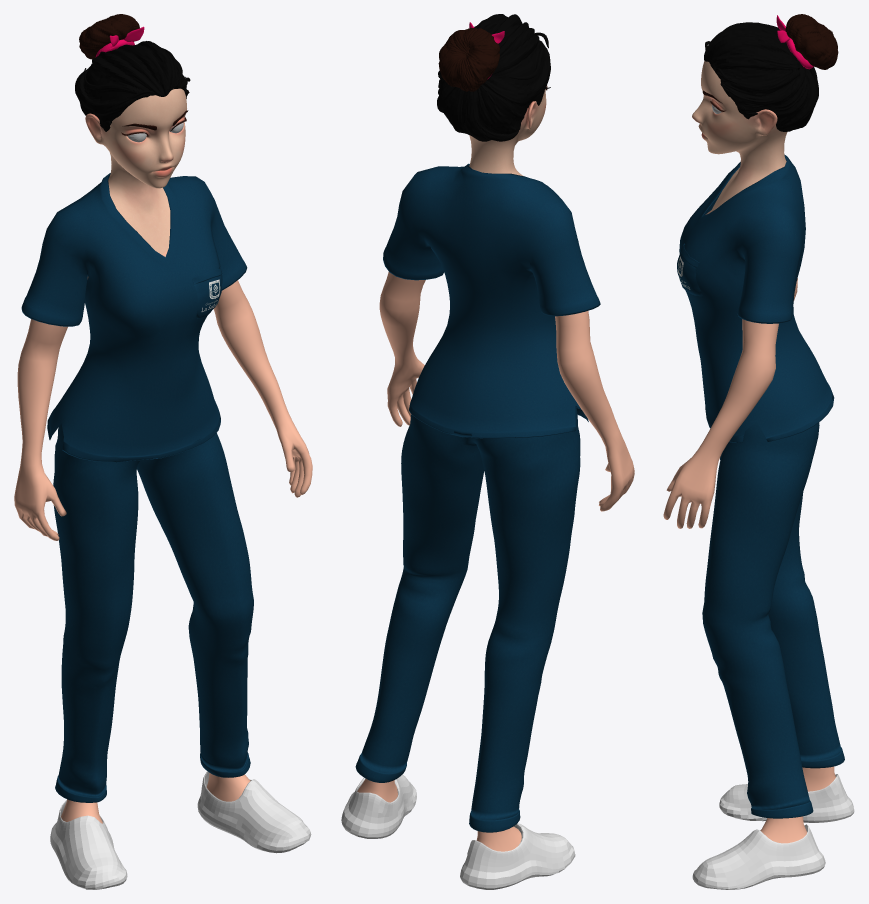
File: Pose_Doctora.fbx
3 renders of one model, left to right at view 1: azimuth 30°, elevation 25°; view 2: azimuth 150°, elevation 25°; view 3: azimuth 270°, elevation 25°, orthographic. The views are drawn at different scales.
Parts seen in each view (by area): view 1: pantalon_low, camisa_low, body_low_copy1, face_low, zapatos_low, base_head_low-001, bollo_low, Bolsillo Camisa.001; view 2: pantalon_low, camisa_low, body_low_copy1, base_head_low-001, zapatos_low, bollo_low, face_low; view 3: pantalon_low, camisa_low, body_low_copy1, base_head_low-001, zapatos_low, face_low, bollo_low, Bolsillo Camisa.001, moña.
Boxes of the visible parts, x1,y1,x2,y2 form: pantalon_low: (53,423,253,802); camisa_low: (21,173,247,462); body_low_copy1: (14,250,312,823); face_low: (85,88,186,254); zapatos_low: (50,771,311,889); base_head_low-001: (75,41,190,131); bollo_low: (79,14,139,59); Bolsillo Camisa.001: (192,267,222,318); pantalon_low: (355,406,580,832); camisa_low: (383,163,600,438); body_low_copy1: (357,271,634,851); base_head_low-001: (437,14,550,141); zapatos_low: (341,774,575,889); bollo_low: (438,28,499,91); face_low: (469,86,546,176); pantalon_low: (702,421,844,818); camisa_low: (679,154,834,442); body_low_copy1: (663,161,835,843); base_head_low-001: (704,22,818,131); zapatos_low: (692,774,854,889); face_low: (692,61,787,211); bollo_low: (785,14,838,69); Bolsillo Camisa.001: (677,243,702,296); moña: (776,15,813,69).
Bounding box in the file's own units: 959 × 2797 × 595.
